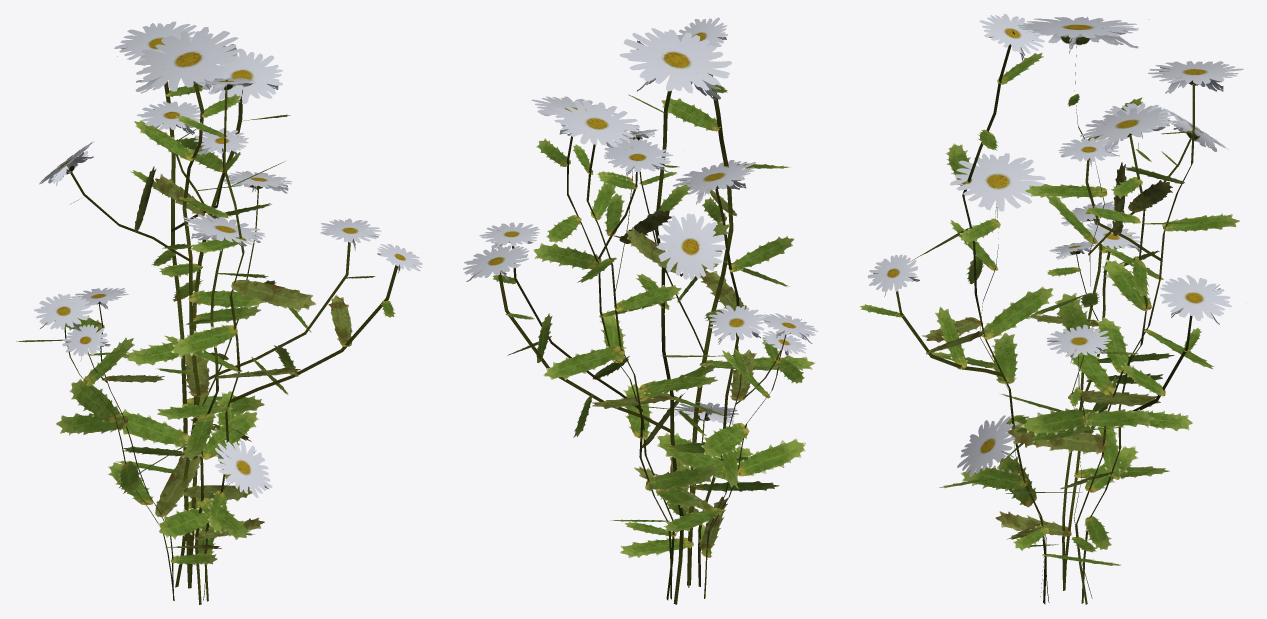
File: daisies.glb
3 renders of one model, left to right at view 1: azimuth 30°, elevation 25°; view 2: azimuth 150°, elevation 25°; view 3: azimuth 270°, elevation 25°, orthographic. The views are drawn at different scales.
Visible parts, largest first — view 1: Daisy_2_LOD1, Daisy_1_LOD1, Daisy_3_LOD1; view 2: Daisy_2_LOD1, Daisy_1_LOD1, Daisy_3_LOD1; view 3: Daisy_2_LOD1, Daisy_3_LOD1, Daisy_1_LOD1.
Boxes of the visible parts, x1,y1,x2,y2 form: Daisy_2_LOD1: [16, 21, 422, 601]; Daisy_1_LOD1: [39, 27, 300, 604]; Daisy_3_LOD1: [54, 48, 381, 600]; Daisy_2_LOD1: [543, 17, 818, 599]; Daisy_1_LOD1: [463, 28, 815, 604]; Daisy_3_LOD1: [479, 96, 806, 600]; Daisy_2_LOD1: [859, 14, 1243, 604]; Daisy_3_LOD1: [957, 103, 1207, 604]; Daisy_1_LOD1: [922, 17, 1231, 598].
Bounding box in the file's own units: 0.3918 × 0.5929 × 0.3607.
1 material, 1 textured.
